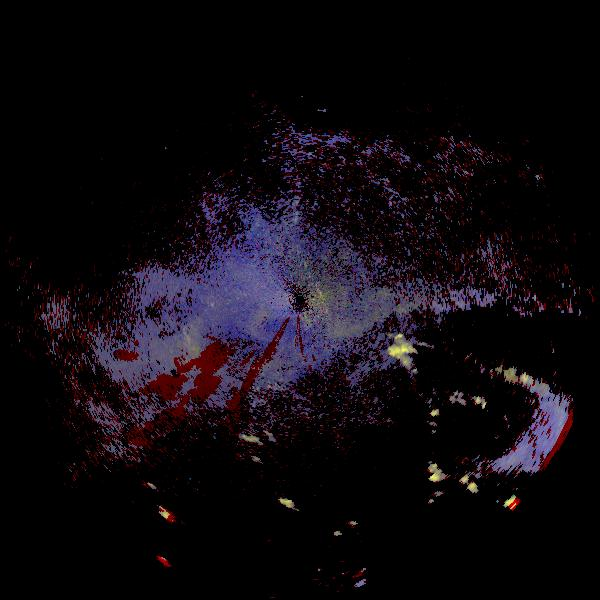roost: (115, 308, 220, 413)
